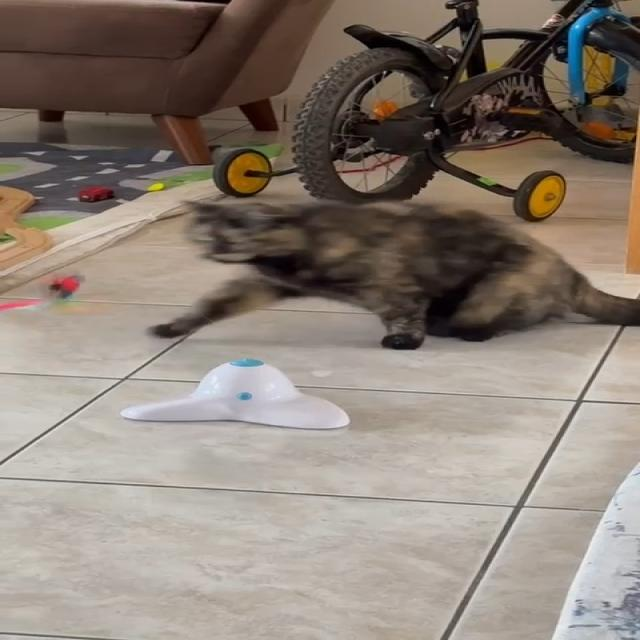authorized: (145, 196, 639, 350)
